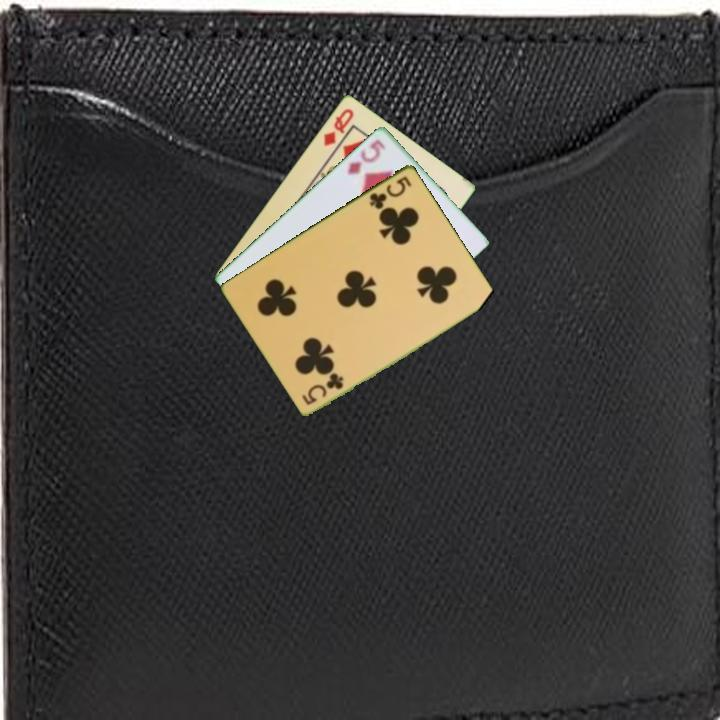5c: (366, 172, 414, 212), (299, 371, 347, 408)
5d: (343, 136, 389, 178)
Qd: (320, 104, 357, 149)
